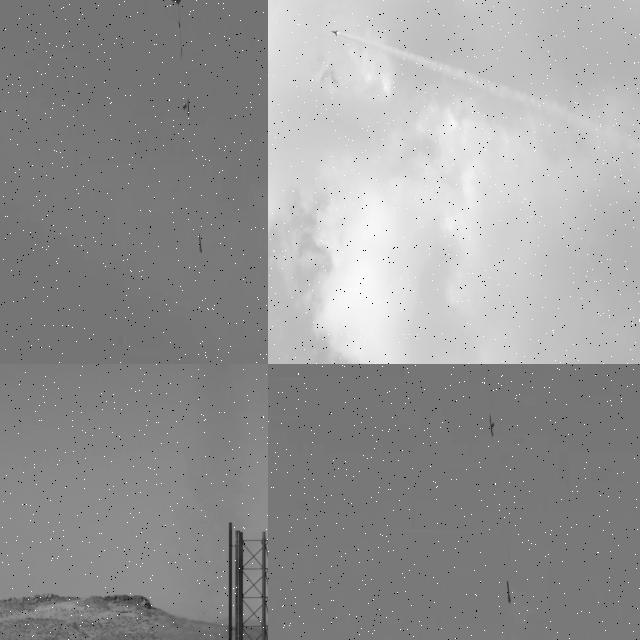Rocket: (198, 234, 203, 253), (507, 582, 511, 603), (331, 30, 339, 37)
